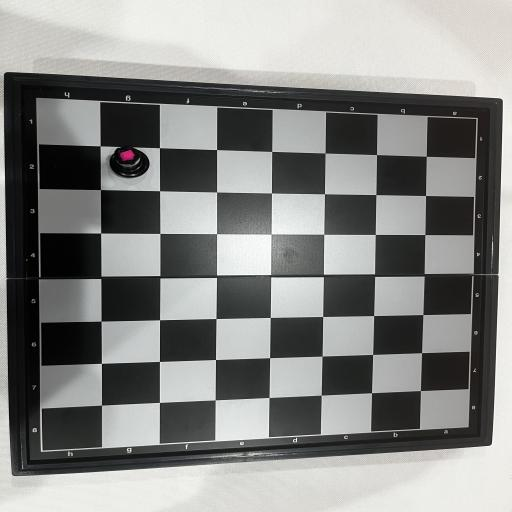Black rook: (109, 145, 150, 179)
